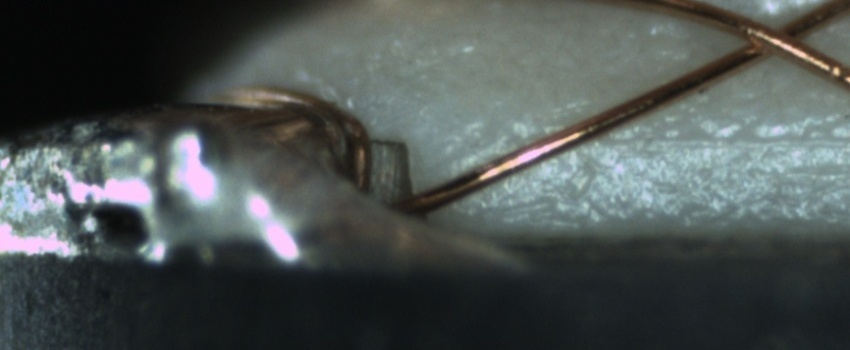CL: (727, 4, 830, 68)
DL: (528, 113, 849, 177)
TE: (201, 81, 383, 202)
